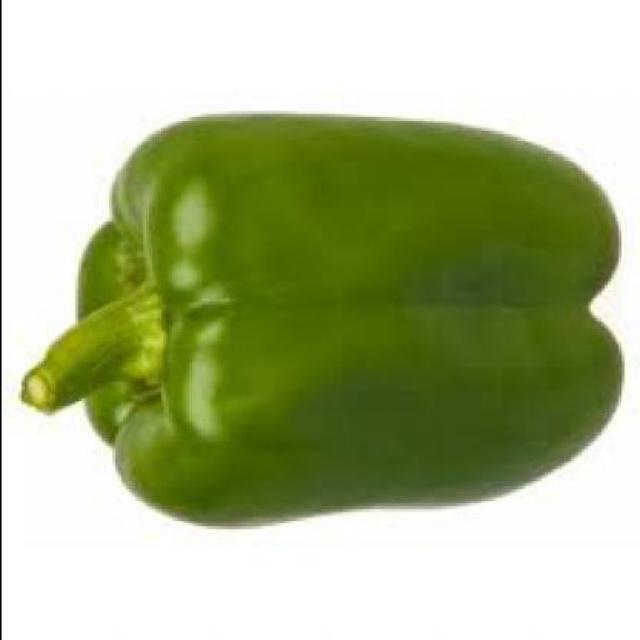BIODEGRADABLE: (14, 117, 617, 529)
